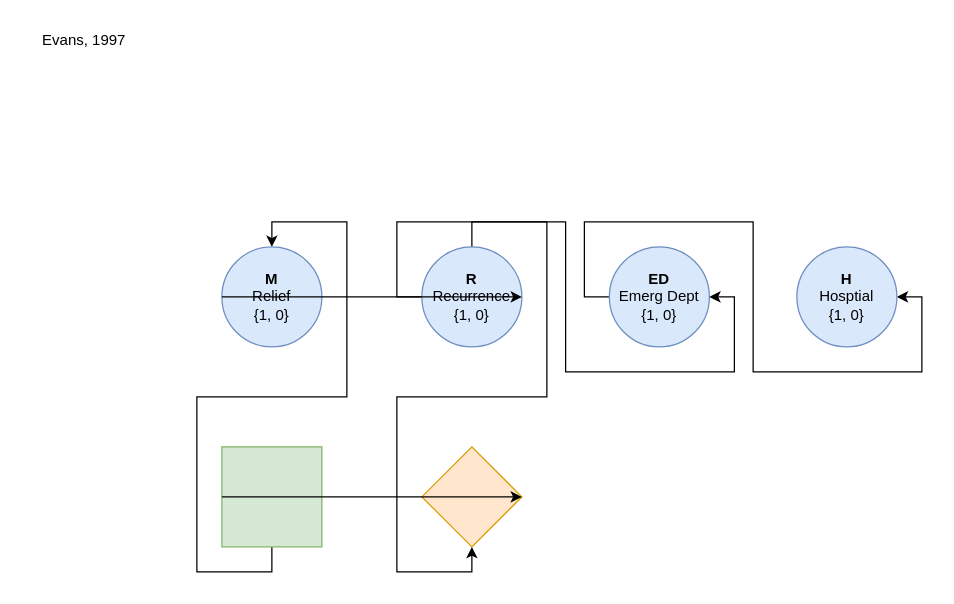
Image size: 954x604. Some labels were removed from this diagram. The centre of each missing label's shape, as x and y in pixels:
D Treatment {S, C}: the point at 271,496
V Value {1, 0}: the point at 471,496
